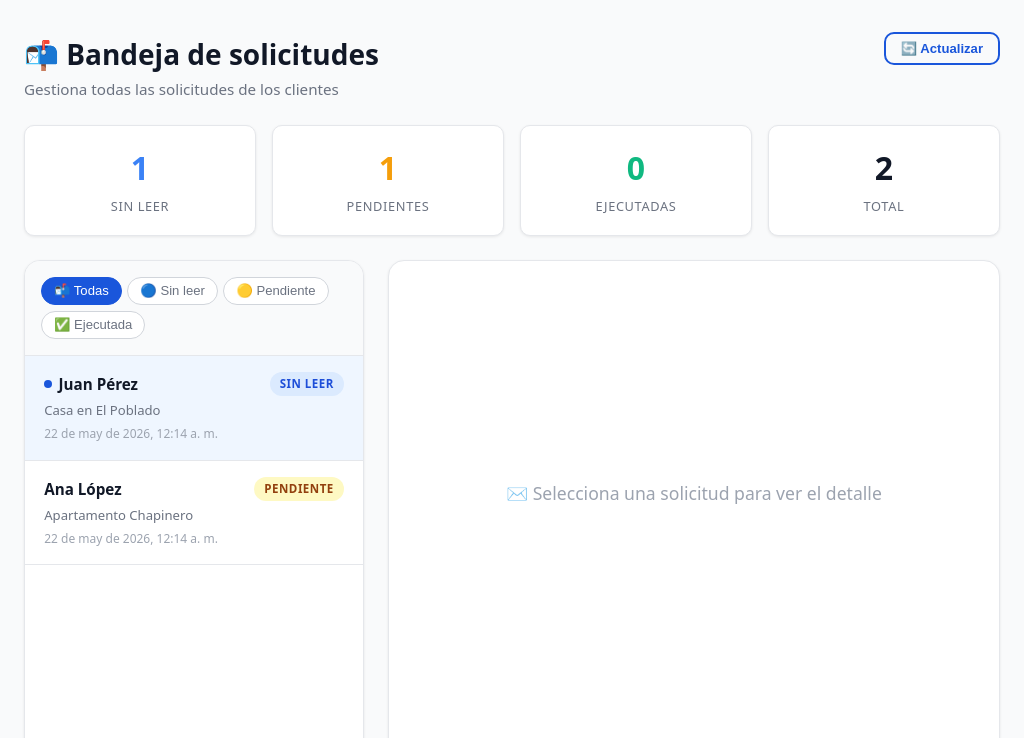
Test: BandejaSolicitudes › abre el detalle al hacer clic en una solicitud
The width and height of the screenshot is (1024, 738).
Click the button with test id "solicitud-item-1" at point(98, 384), box 25,356 -> 363,461
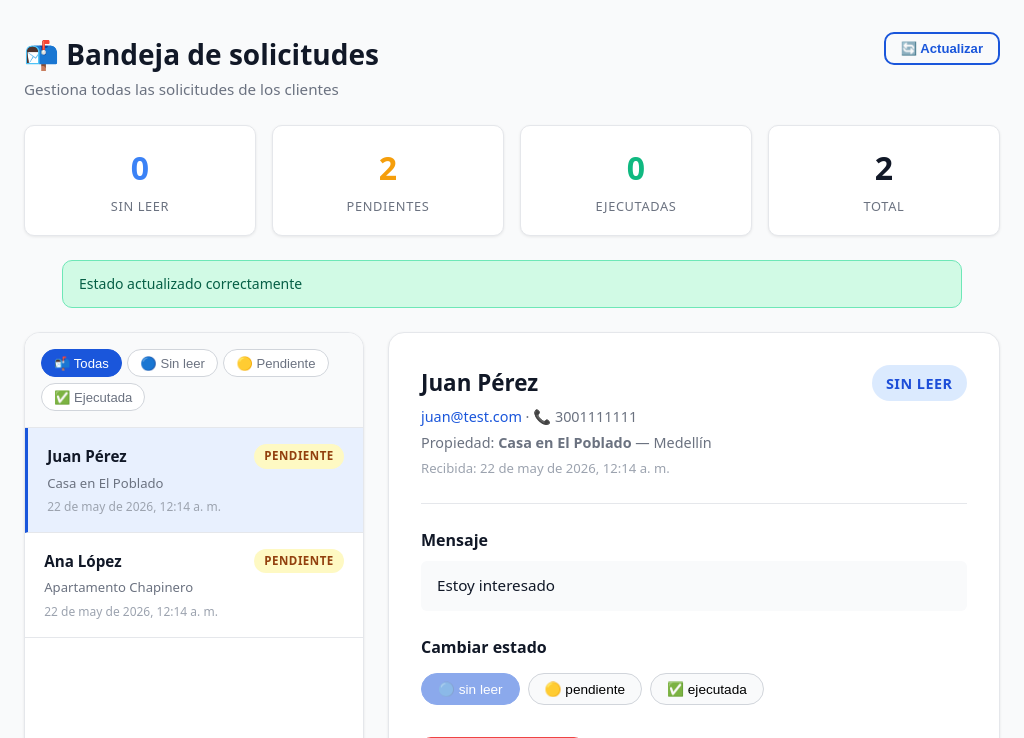
Expected: the heading "Juan Pérez" is shown, 421,367 -> 538,398
